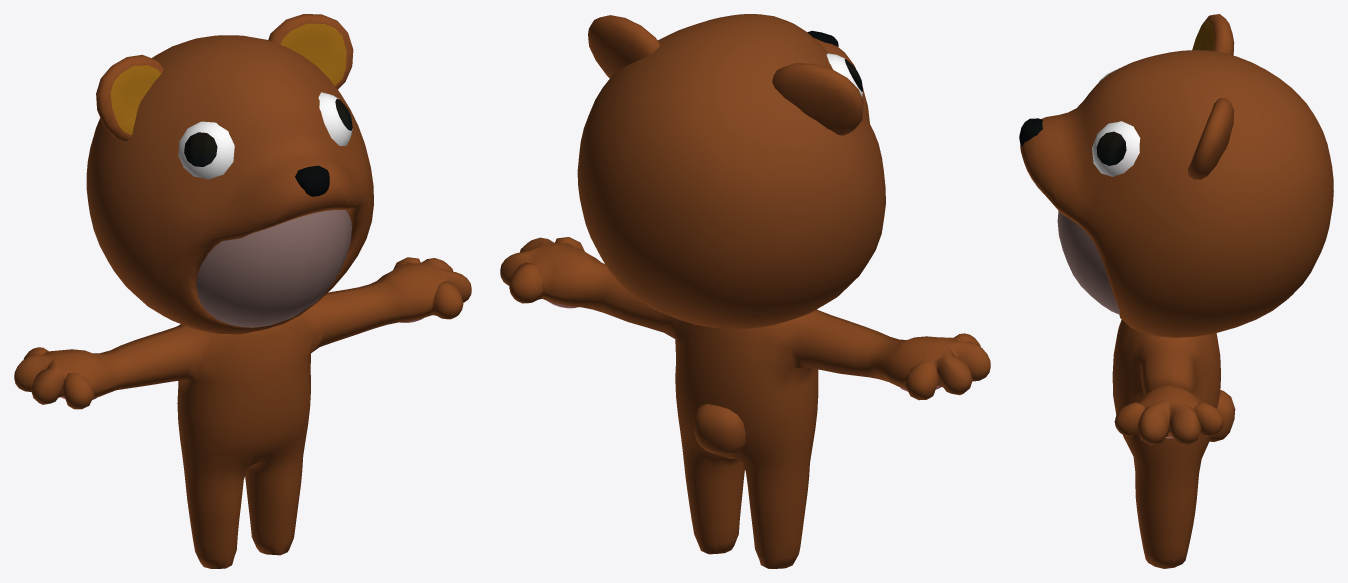
The model's file is Bear_Clothes.fbx.
3 renders of one model, left to right at view 1: azimuth 30°, elevation 25°; view 2: azimuth 150°, elevation 25°; view 3: azimuth 270°, elevation 25°, orthographic. The views are drawn at different scales.
Visible parts, largest first — view 1: Bear_Clothes; view 2: Bear_Clothes; view 3: Bear_Clothes.
Part boxes in pixels (x1,y1,x2,y2): Bear_Clothes: (14,14,471,568); Bear_Clothes: (500,14,990,568); Bear_Clothes: (1019,14,1333,568).
Size of the model in its own units: 283 by 310 by 181.
